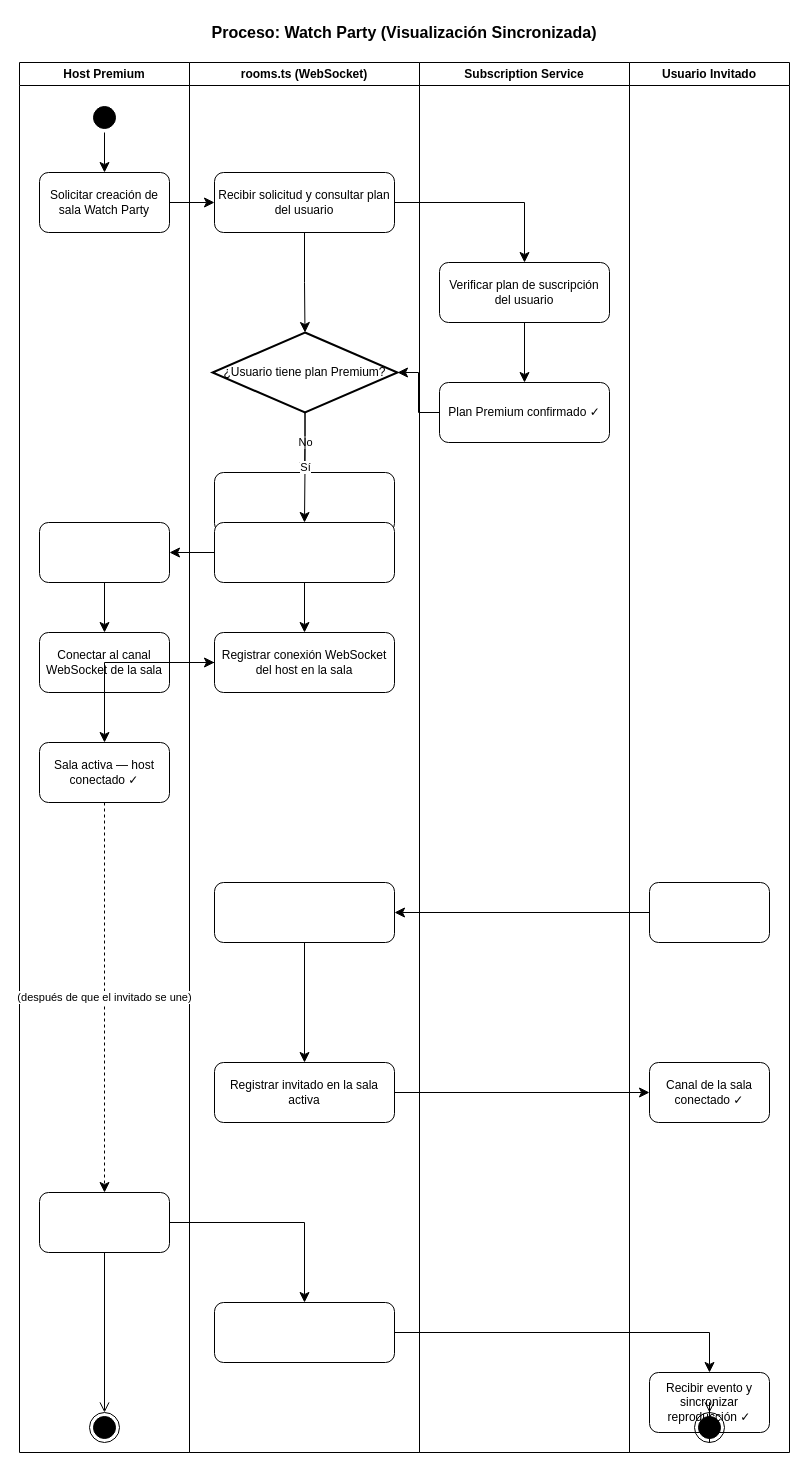
The diagram is 807 pixels wide and 1470 high, and some of its shapes have lost their labels. Each missing label, with the centre of its shape:
Buscar sala activa con el código de invitación: the point at 304,912
Crear sala con identificador y código de invitación: the point at 304,552
Difundir evento a todos los miembros conectados: the point at 304,1332
Enviar evento de reproducción: the point at 104,1222
Rechazar solicitud — función exclusiva de plan Premium: the point at 304,502
Recibir código de invitación de la sala ✓: the point at 104,552
Solicitar unión con código de invitación: the point at 709,912
